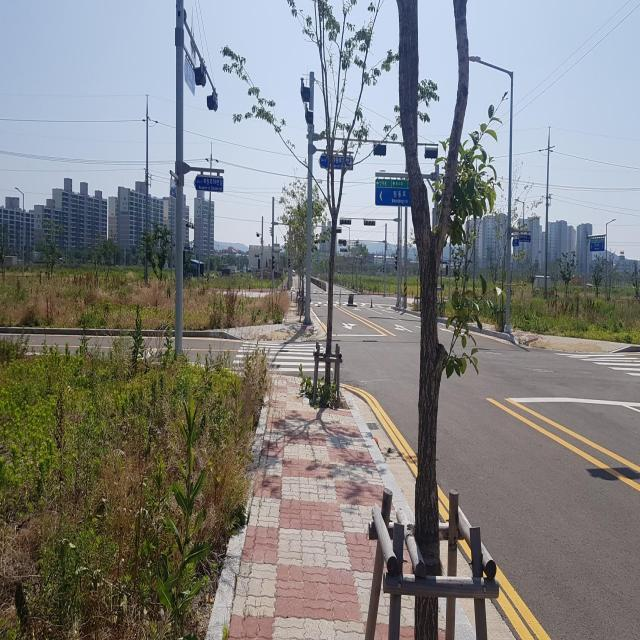횡단보도: (230, 340, 334, 372)
